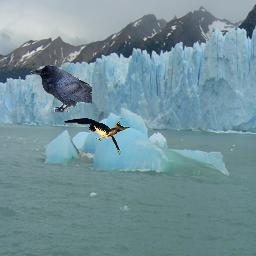Crow: (30, 65, 92, 112)
Swallow: (62, 114, 143, 156)
